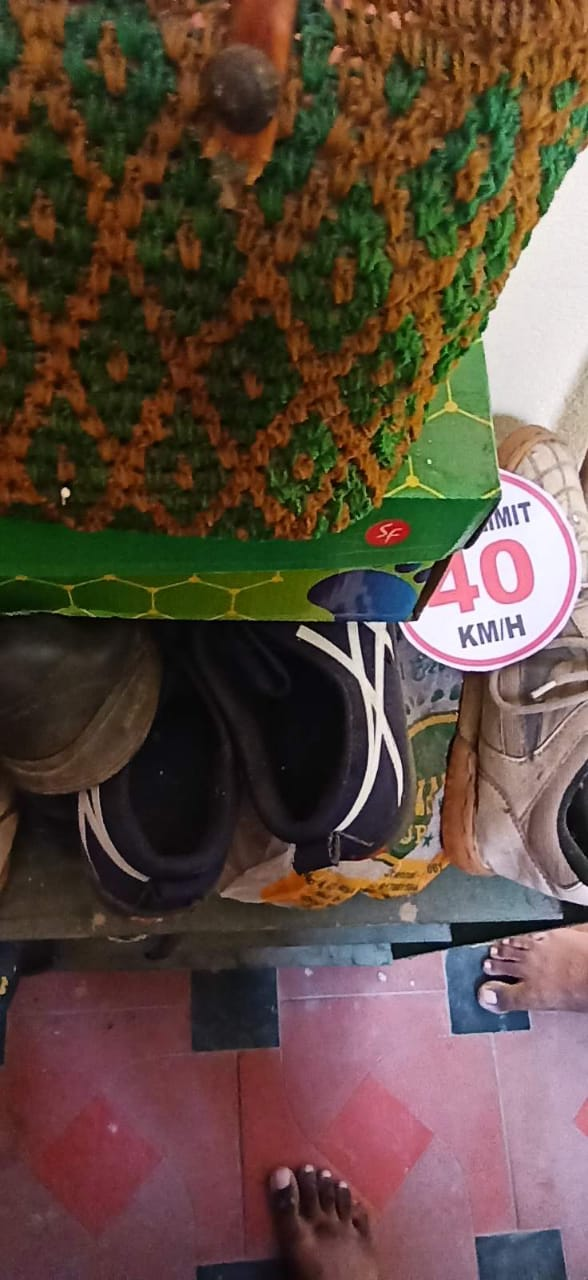SPEED LIMIT (40 KM/H): (356, 448, 581, 714)
